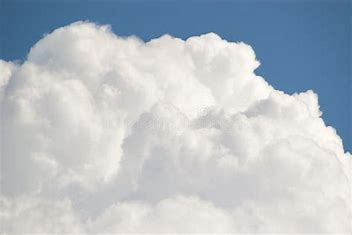Cumulus: (2, 15, 352, 233)
